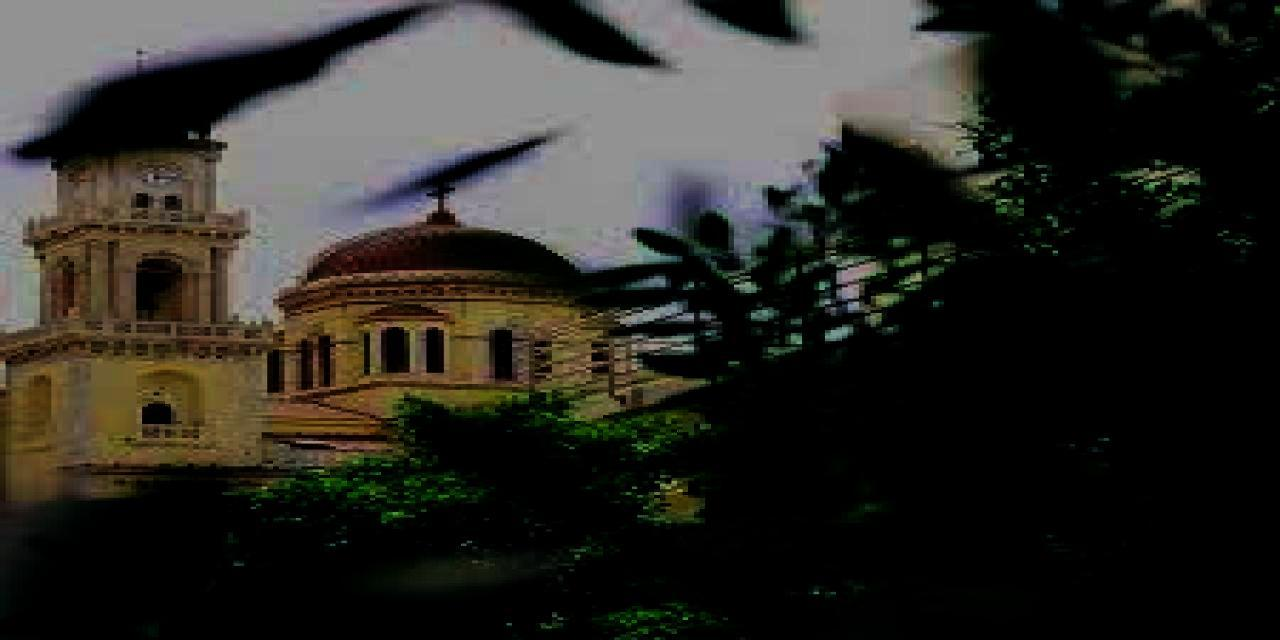Agios Minas: (2, 49, 684, 509)
